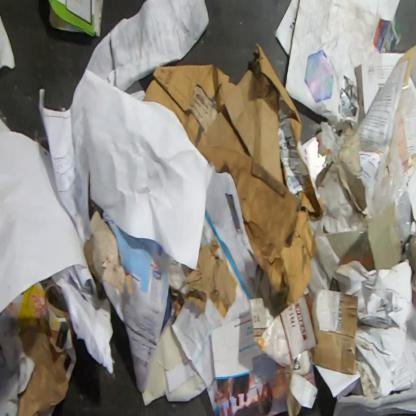cardboard: (196, 39, 326, 317), (142, 65, 236, 149), (315, 202, 401, 282), (206, 170, 257, 299), (170, 237, 239, 316), (16, 328, 70, 416), (83, 209, 136, 297), (305, 288, 358, 375), (327, 124, 368, 217)
soft_plastic: (368, 73, 415, 246), (319, 119, 346, 170)
